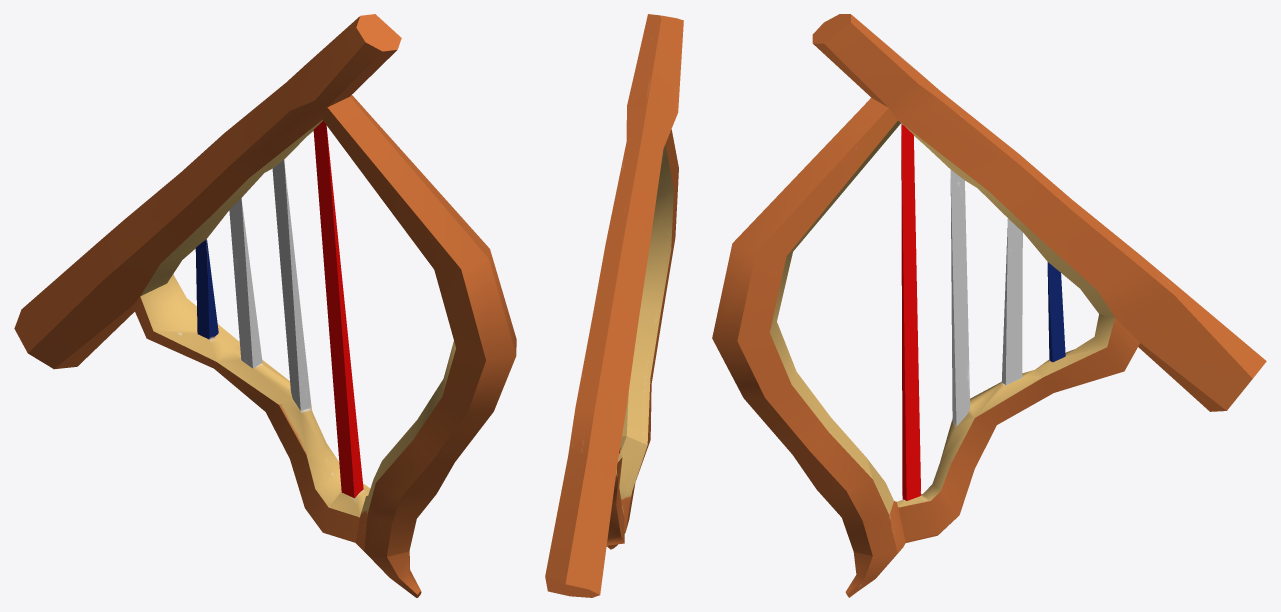
File: Arpa3_000010.obj
3 renders of one model, left to right at view 1: azimuth 30°, elevation 25°; view 2: azimuth 150°, elevation 25°; view 3: azimuth 270°, elevation 25°, orthographic. The views are drawn at different scales.
Parts seen in each view (by area): view 1: a3_Arpa_1:pCube6; view 2: a3_Arpa_1:pCube6; view 3: a3_Arpa_1:pCube6.
Part boxes in pixels (x1,y1,x2,y2): a3_Arpa_1:pCube6: (14,14,516,597); a3_Arpa_1:pCube6: (545,14,683,597); a3_Arpa_1:pCube6: (712,14,1266,597).
Bounding box in the file's own units: 3.95 × 9.81 × 8.83.
